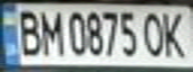0: (63, 7, 84, 56)
5: (118, 8, 142, 57)
7: (100, 8, 121, 56)
8: (84, 7, 106, 56)
B: (12, 6, 45, 57)
K: (157, 8, 190, 60)
M: (36, 7, 63, 57)
O: (139, 8, 169, 59)
